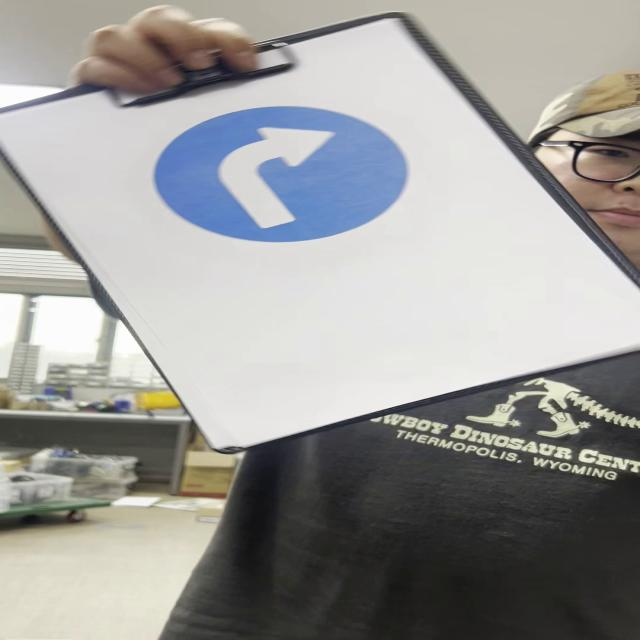right: (155, 108, 412, 242)
